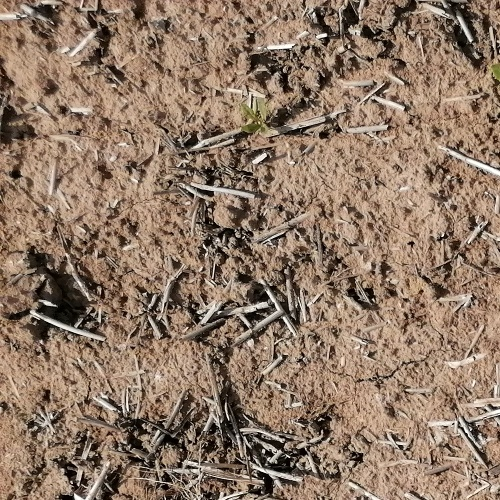beet: (239, 97, 273, 136), (489, 61, 500, 88)
